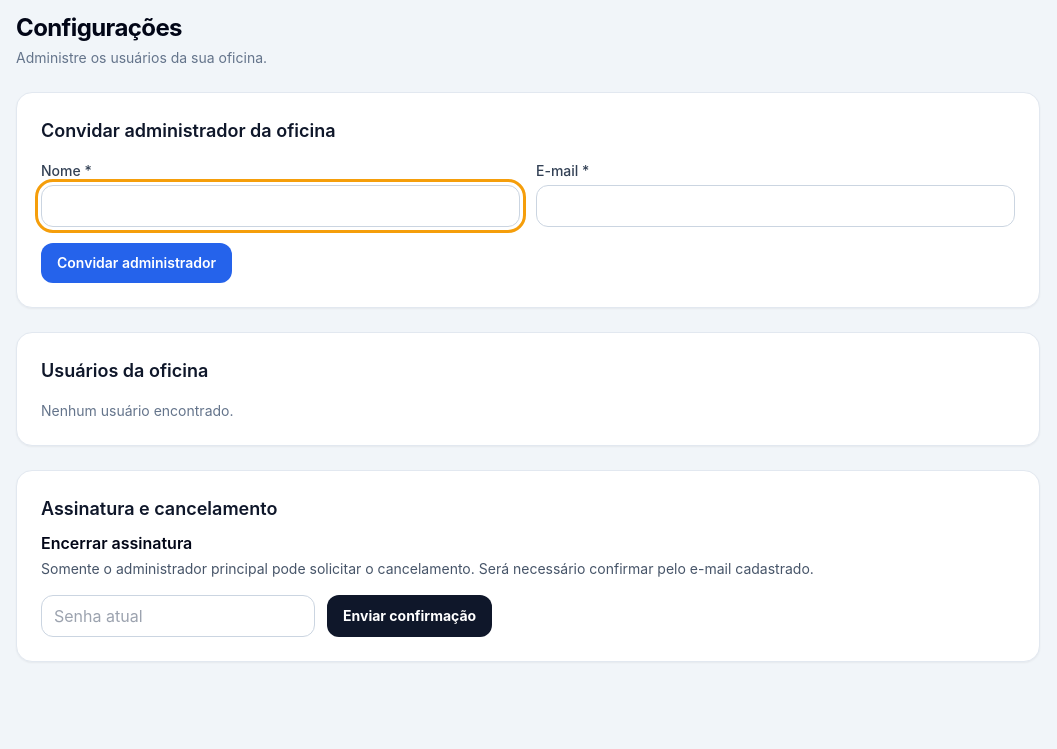
Test case: Organization User settings › invites only with name and normalized email, never role or organizationId
In the field named "Nome do usuário": (280, 206) [41,185,520,227], type "Novo Admin"
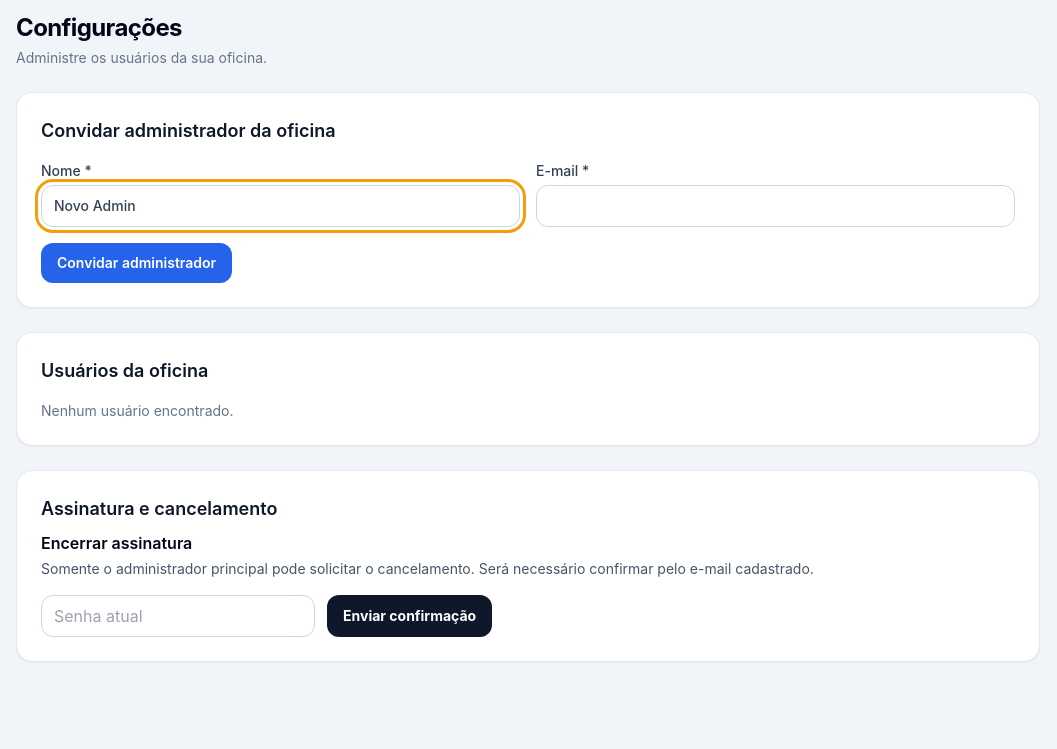
In the field named "E-mail do usuário": (776, 206) [536,185,1015,227], type " NOVO@EXAMPLE.COM "
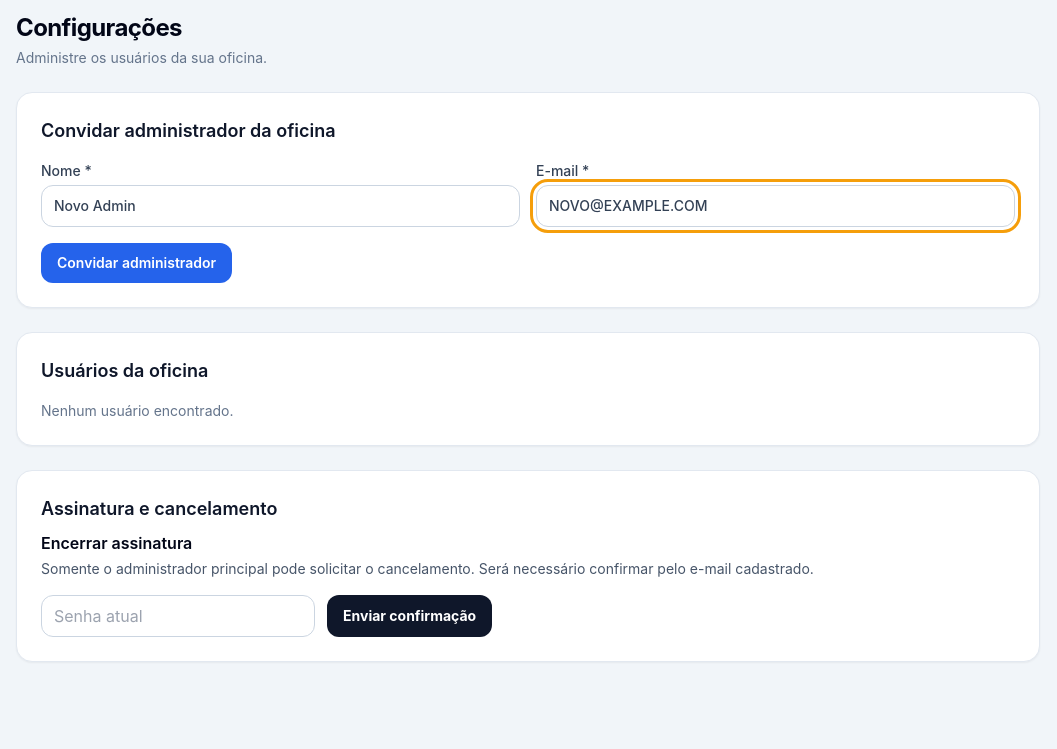
Click the button "Convidar administrador": (137, 263) [41,243,232,283]
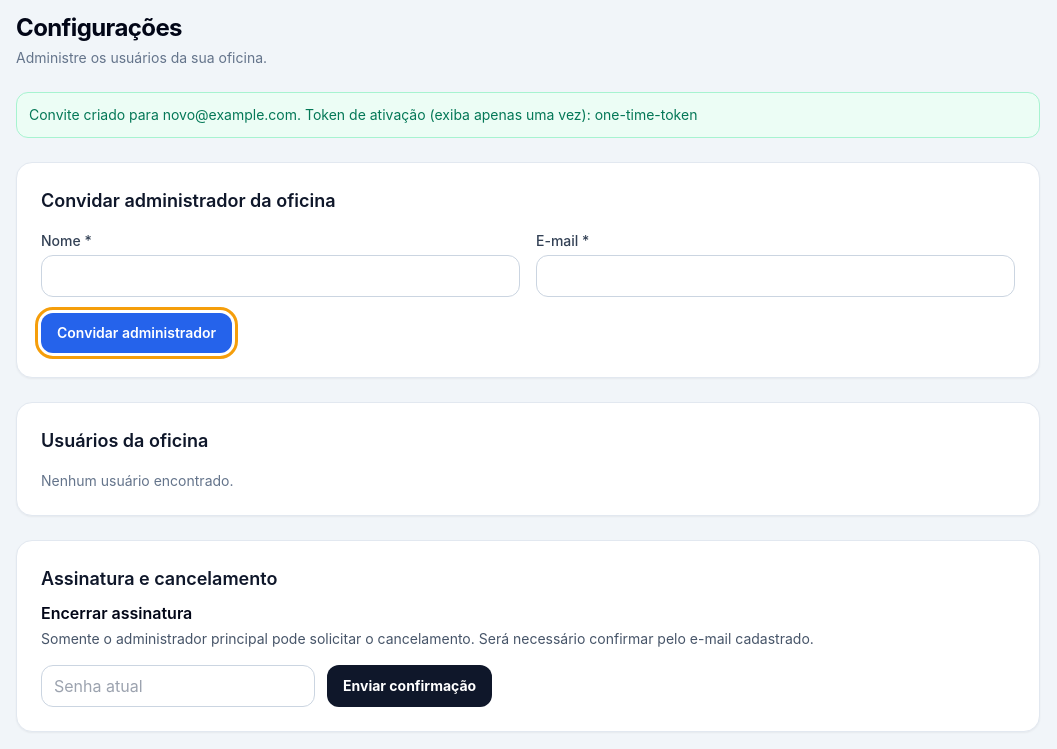
Result: the message shows "one-time-token" at [29,106,697,123]
